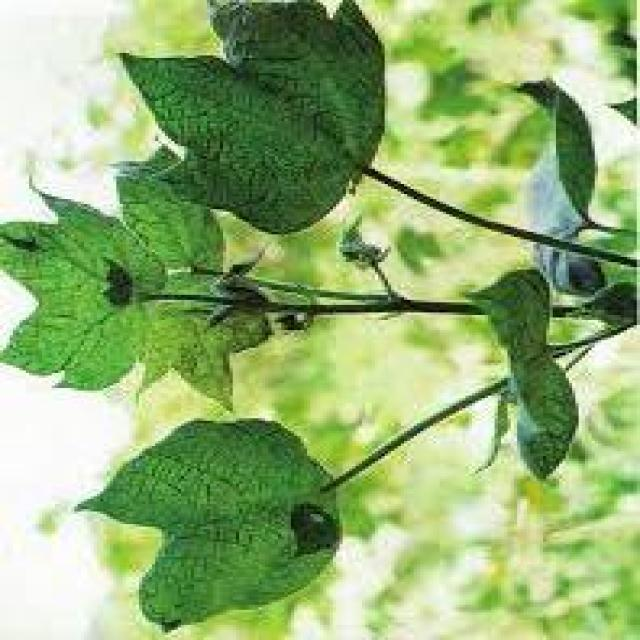Leaf Curl Virus: (43, 110, 467, 638)
